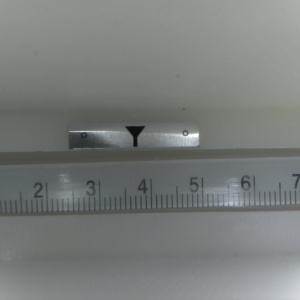2: (32, 183, 42, 198)
3: (85, 180, 95, 196)
4: (137, 178, 147, 194)
5: (189, 177, 198, 192)
6: (241, 175, 251, 190)
7: (291, 173, 300, 189)
finger: (124, 126, 144, 149)
